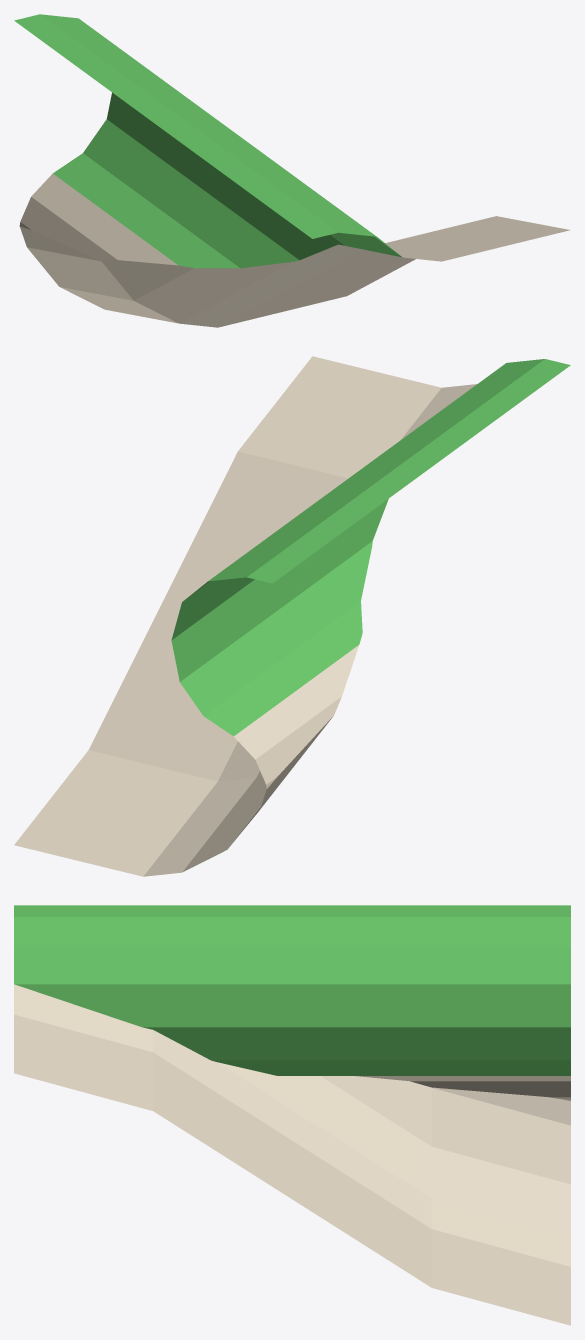
File: Escarpment_Terrain_Hill_Crest_Top.glb
3 views of the same model, one above another, from view 1: azimuth 30°, elevation 25°; view 2: azimuth 150°, elevation 25°; view 3: azimuth 270°, elevation 25° (orthographic). The views are drawn at different scales.
Visible parts, largest first — view 1: Escarpment_Terrain_Hill_Crest_Top; view 2: Escarpment_Terrain_Hill_Crest_Top; view 3: Escarpment_Terrain_Hill_Crest_Top.
Boxes of the visible parts, x1,y1,x2,y2 form: Escarpment_Terrain_Hill_Crest_Top: (14, 14, 570, 327); Escarpment_Terrain_Hill_Crest_Top: (14, 356, 570, 876); Escarpment_Terrain_Hill_Crest_Top: (14, 905, 570, 1325).
Bounding box in the file's own units: 0.53 × 0.636 × 1.06.
